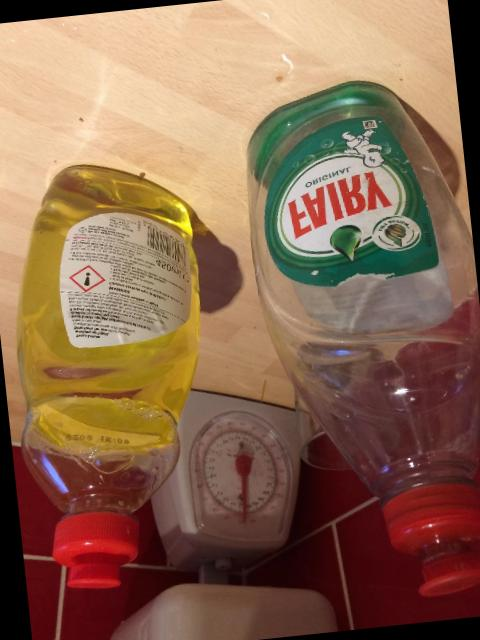plastic: (248, 83, 480, 596), (16, 165, 205, 585)
